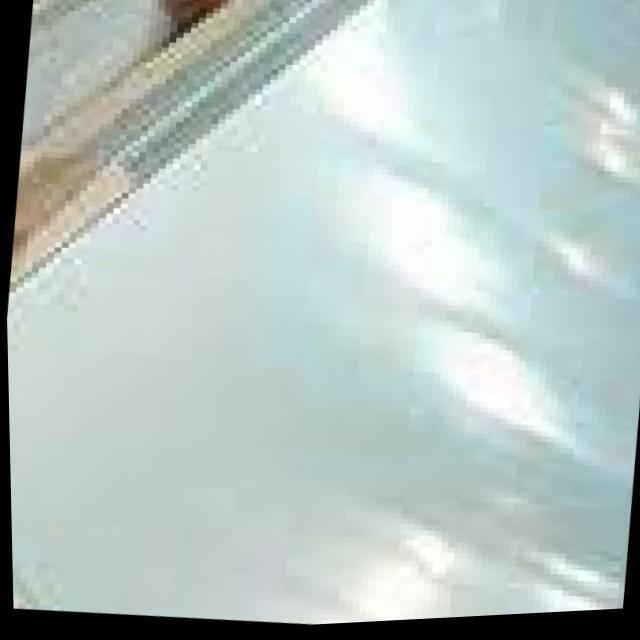metal-plates: (6, 1, 640, 629)
